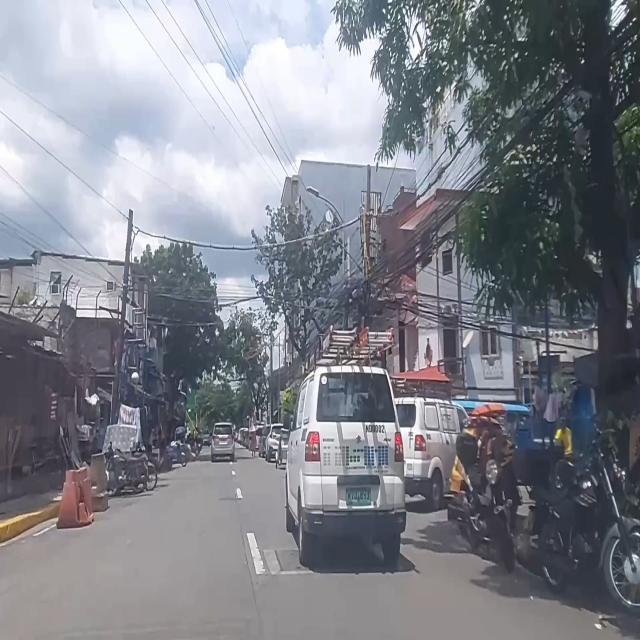car: (284, 364, 406, 568), (394, 396, 468, 509), (210, 422, 236, 462), (265, 424, 284, 462)
jeepney: (452, 399, 531, 442)
motorcycle: (535, 442, 640, 614), (448, 429, 515, 572), (104, 446, 150, 494), (132, 442, 158, 490)
tricycle: (163, 426, 191, 470), (275, 428, 290, 468)
